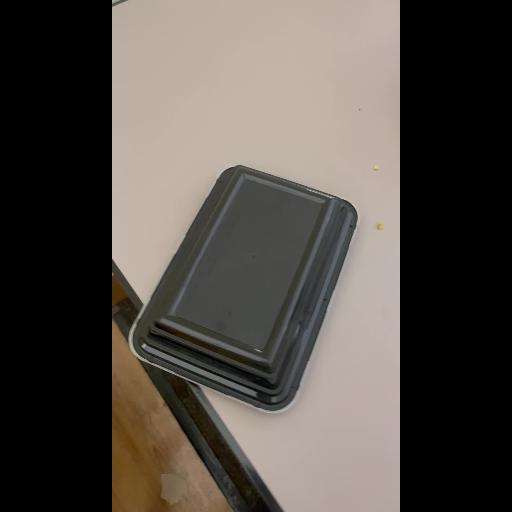rigid_plastic_container: (130, 169, 356, 409)
